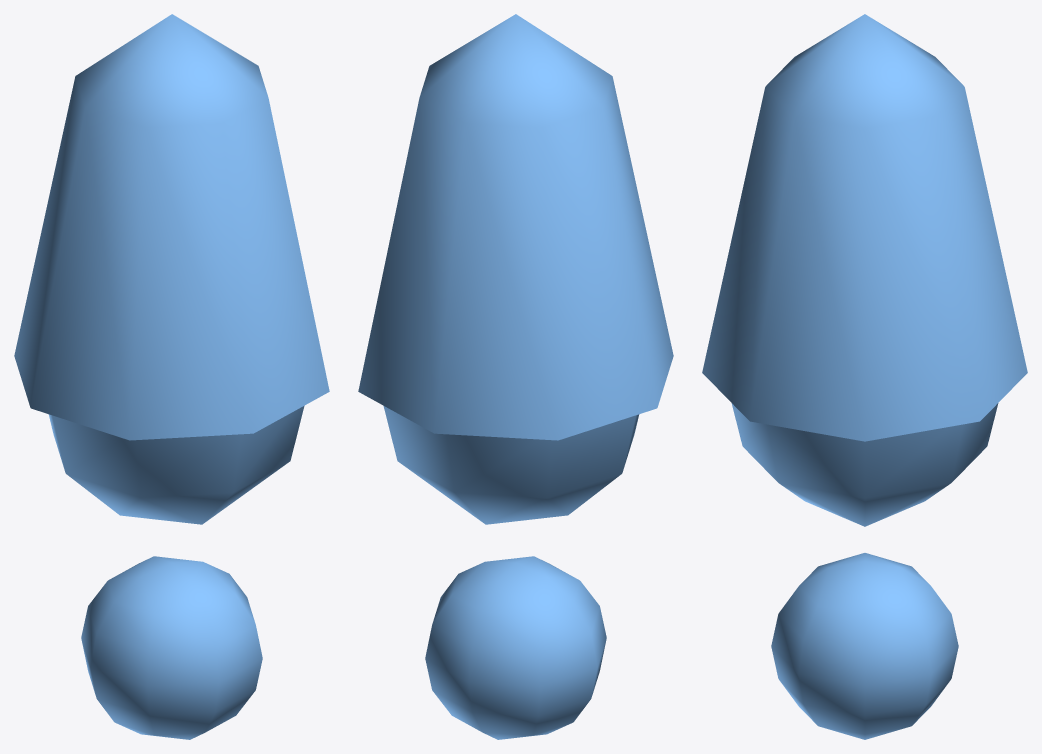
Rendered from male_hand_model.glb.
The picture shows the model from 3 angles, left to right: view 1: azimuth 30°, elevation 25°; view 2: azimuth 150°, elevation 25°; view 3: azimuth 270°, elevation 25°; orthographic projection.
Parts seen in each view (by area): view 1: male_hand_model; view 2: male_hand_model; view 3: male_hand_model.
Part boxes in pixels (x1,y1,x2,y2): male_hand_model: (14,14,329,739); male_hand_model: (358,14,673,739); male_hand_model: (702,14,1027,739).
Bounding box in the file's own units: 35.53 × 86.34 × 35.53.
